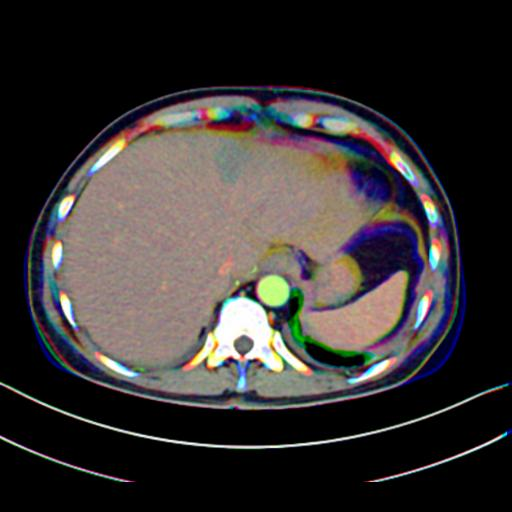Abscess: (214, 132, 248, 183)
